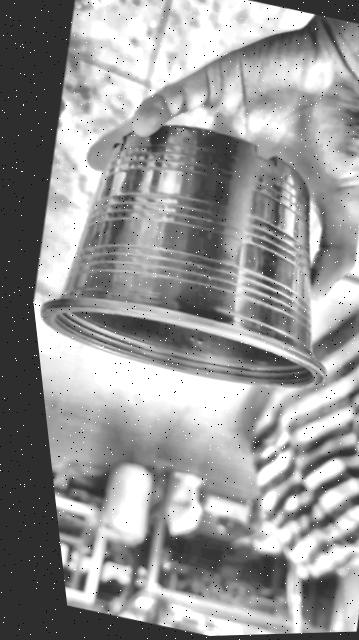pot: (11, 92, 359, 414)
